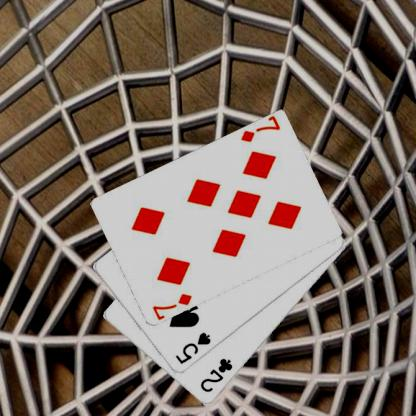2C: (198, 356, 234, 394)
5S: (173, 330, 212, 366)
7D: (150, 290, 193, 320), (238, 116, 281, 144)
